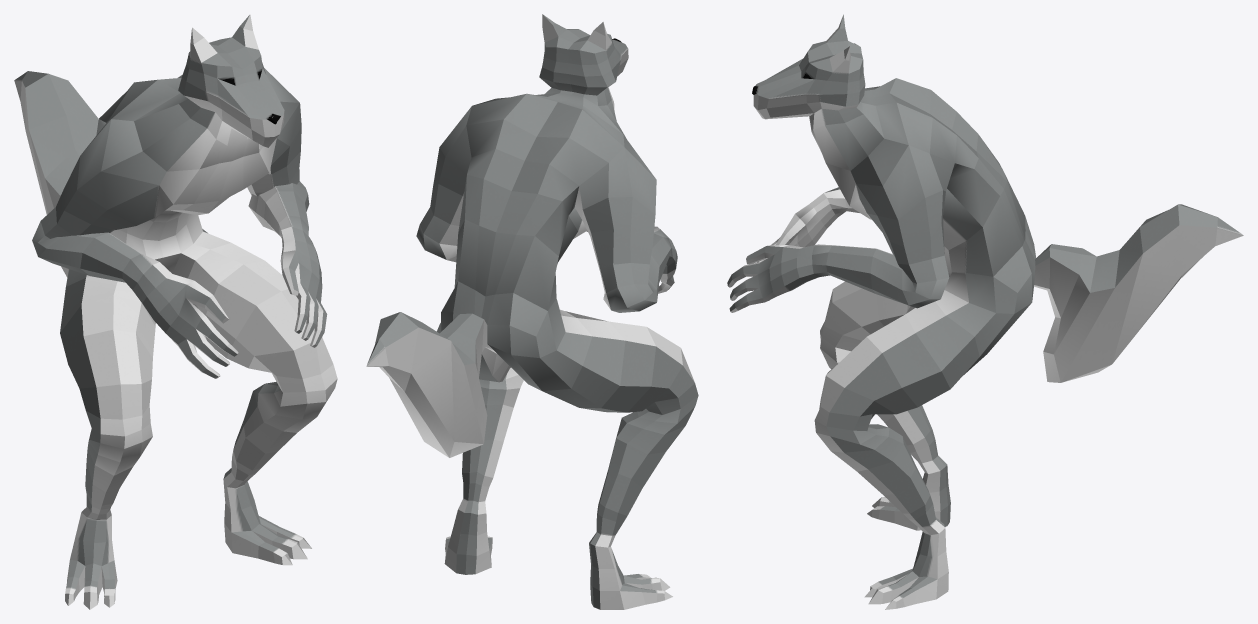
The model's file is WolfIdle_(123).obj.
The picture shows the model from 3 angles, left to right: view 1: azimuth 30°, elevation 25°; view 2: azimuth 150°, elevation 25°; view 3: azimuth 270°, elevation 25°; orthographic projection. The views are drawn at different scales.
Visible parts, largest first — view 1: Box001; view 2: Box001; view 3: Box001.
Part boxes in pixels (x1=…): Box001: x1=14, y1=14, x2=337, y2=609; Box001: x1=366, y1=14, x2=698, y2=609; Box001: x1=727, y1=14, x2=1243, y2=609.
Bounding box in the file's own units: 61.78 × 131 × 115.
